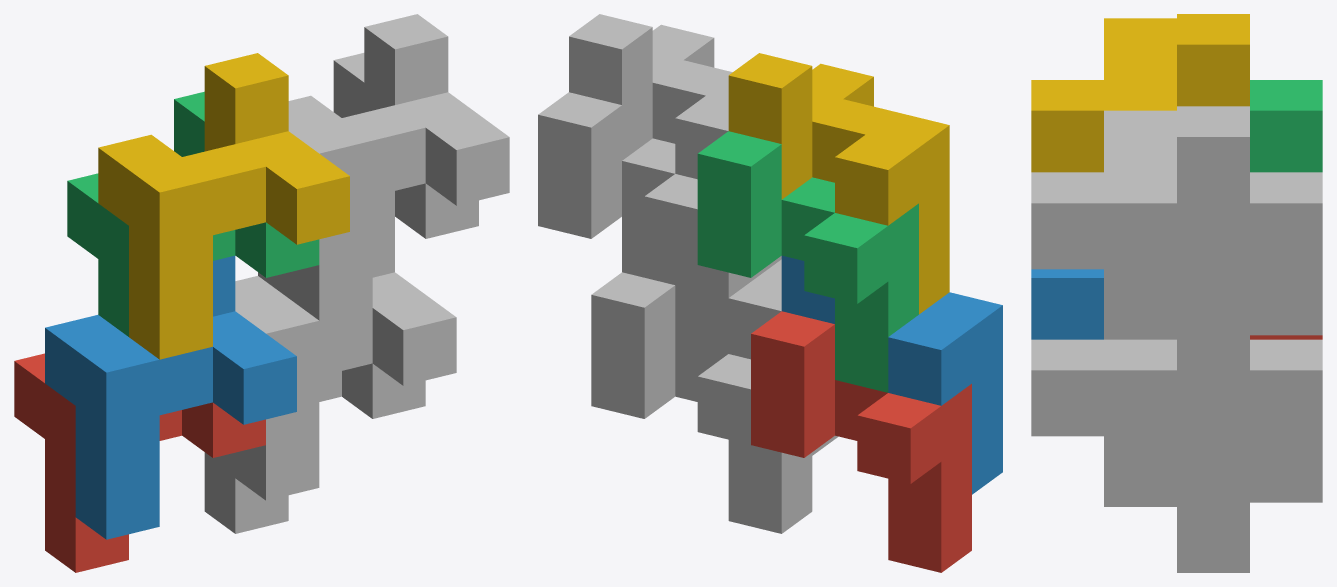
Rendered from tiling.obj.
3 renders of one model, left to right at view 1: azimuth 30°, elevation 25°; view 2: azimuth 150°, elevation 25°; view 3: azimuth 270°, elevation 25°, orthographic. The views are drawn at different scales.
Visible parts, largest first — view 1: copy_1_domain_4, copy_1_domain_2, copy_1_domain_8, copy_1_domain_6, copy_1_domain_1, copy_1_domain_3, copy_1_domain_5, copy_1_domain_7; view 2: copy_1_domain_1, copy_1_domain_3, copy_1_domain_4, copy_1_domain_5, copy_1_domain_7, copy_1_domain_8, copy_1_domain_2, copy_1_domain_6; view 3: copy_1_domain_8, copy_1_domain_5, copy_1_domain_6, copy_1_domain_7, copy_1_domain_4, copy_1_domain_3, copy_1_domain_2.
Boxes of the visible parts, x1,y1,x2,y2 form: copy_1_domain_4: (98,53,349,359); copy_1_domain_2: (45,255,296,539); copy_1_domain_8: (288,14,509,320); copy_1_domain_6: (235,216,456,500); copy_1_domain_1: (14,353,265,572); copy_1_domain_3: (67,91,319,336); copy_1_domain_5: (204,363,425,533); copy_1_domain_7: (258,53,478,297); copy_1_domain_1: (751,311,971,572); copy_1_domain_3: (697,131,918,392); copy_1_domain_4: (728,53,949,314); copy_1_domain_5: (591,272,812,533); copy_1_domain_7: (538,92,759,353); copy_1_domain_8: (569,14,781,275); copy_1_domain_2: (781,255,1002,494); copy_1_domain_6: (622,216,838,455); copy_1_domain_8: (1031,106,1249,339); copy_1_domain_5: (1104,339,1322,572); copy_1_domain_6: (1031,335,1249,506); copy_1_domain_7: (1104,172,1322,335); copy_1_domain_4: (1031,14,1249,172); copy_1_domain_3: (1250,80,1322,172); copy_1_domain_2: (1031,269,1103,339).
Bounding box in the file's own units: 7 × 8 × 4.
